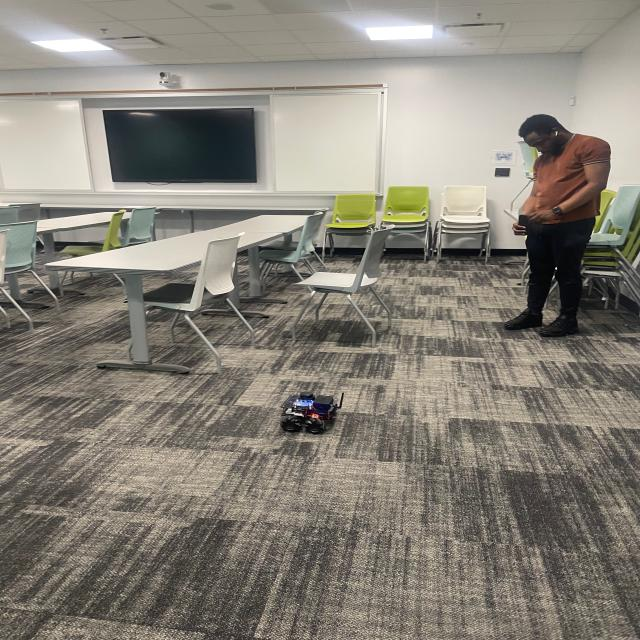ArduinoCar: (278, 388, 345, 432)
